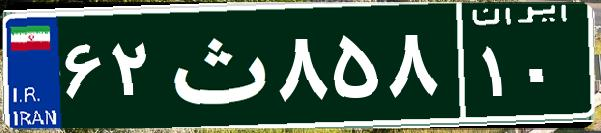0: (525, 38, 570, 115)
1: (475, 38, 525, 113)
2: (110, 28, 158, 105)
5: (330, 28, 385, 110)
6: (57, 26, 110, 107)
8: (385, 28, 445, 110), (273, 28, 330, 110)
ث: (158, 15, 273, 115)
